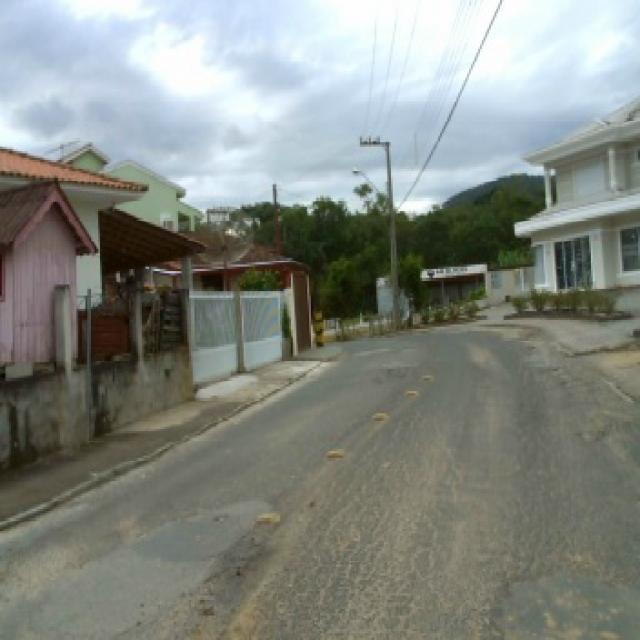Poth-hole: (274, 451, 442, 636), (478, 556, 616, 636), (569, 424, 607, 442), (252, 508, 280, 522), (324, 444, 344, 456), (556, 376, 576, 386), (371, 409, 391, 418), (549, 362, 560, 371), (383, 364, 392, 374), (524, 342, 536, 349), (406, 386, 416, 394)
